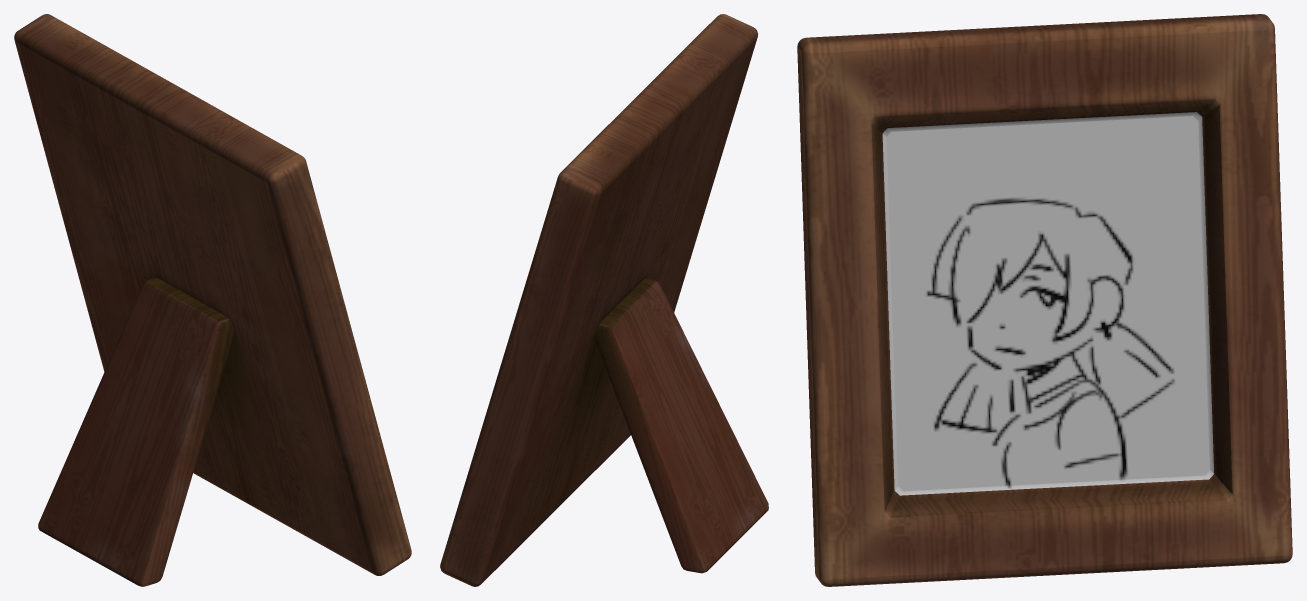
Rendered from SM_weddingPhoto.fbx.
3 renders of one model, left to right at view 1: azimuth 30°, elevation 25°; view 2: azimuth 150°, elevation 25°; view 3: azimuth 270°, elevation 25°, orthographic. The views are drawn at different scales.
Visible parts, largest first — view 1: framePortrait 1, frameStand_Portrait; view 2: framePortrait 1, frameStand_Portrait; view 3: framePortrait 1.
Part boxes in pixels (x1=…): framePortrait 1: x1=14, y1=14, x2=411, y2=575; frameStand_Portrait: x1=38, y1=278, x2=234, y2=586; framePortrait 1: x1=440, y1=14, x2=757, y2=586; frameStand_Portrait: x1=594, y1=278, x2=768, y2=573; framePortrait 1: x1=797, y1=14, x2=1292, y2=586.
Bounding box in the file's own units: 0.741 × 1.31 × 1.2.
